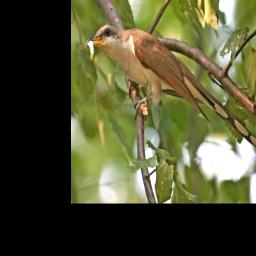Cuckoo: (82, 23, 256, 150)
